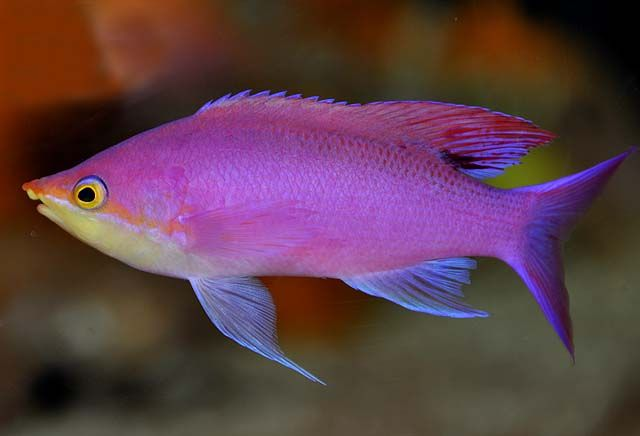fish: (21, 86, 631, 387)
